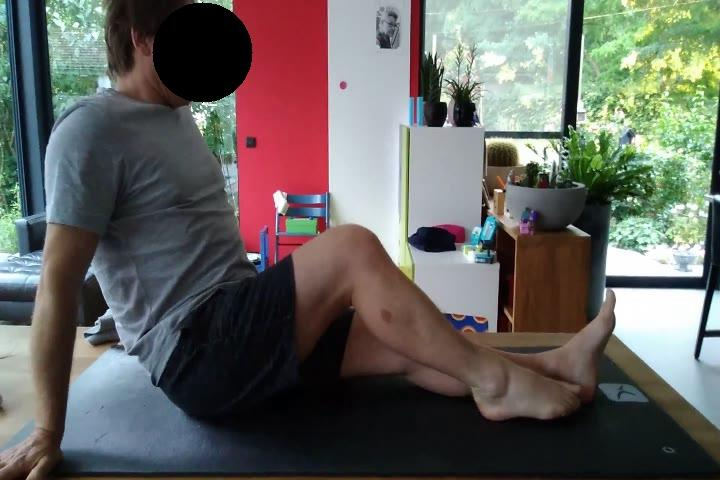lower_body: (157, 221, 620, 426)
